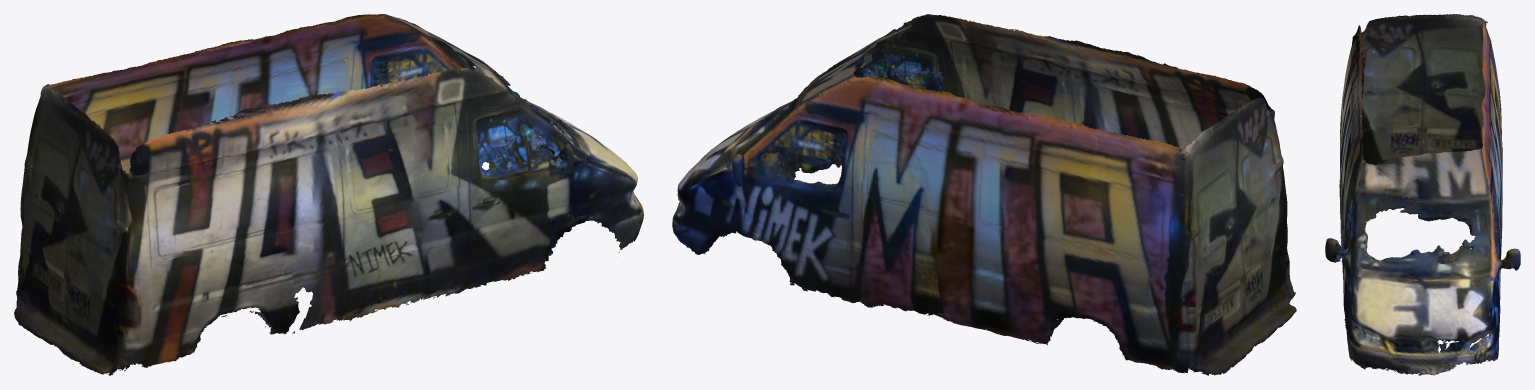
File: van-008.glb
The picture shows the model from 3 angles, left to right: view 1: azimuth 30°, elevation 25°; view 2: azimuth 150°, elevation 25°; view 3: azimuth 270°, elevation 25°; orthographic projection. The views are drawn at different scales.
Parts seen in each view (by area): view 1: No__8; view 2: No__8; view 3: No__8.
Boxes of the visible parts, x1,y1,x2,y2 form: No__8: (14, 14, 643, 375); No__8: (672, 14, 1296, 375); No__8: (1325, 14, 1520, 375).
Bounding box in the file's own units: 5.65 × 2.29 × 2.26.
1 material, 1 textured.
